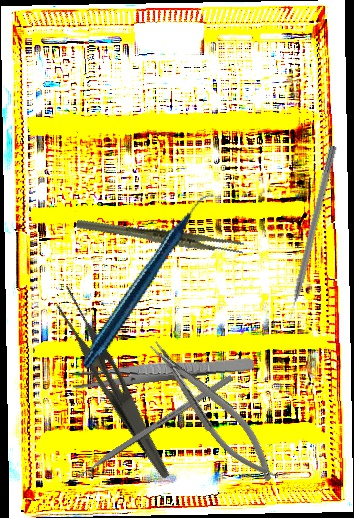Dressing Forceps: (42, 283, 190, 481), (71, 352, 255, 391)
Handpiece: (43, 192, 255, 371)
Needle Holder: (142, 328, 285, 492)
Pusher: (58, 374, 234, 491), (282, 144, 338, 328)
Tissue Forceps: (74, 188, 247, 283)
